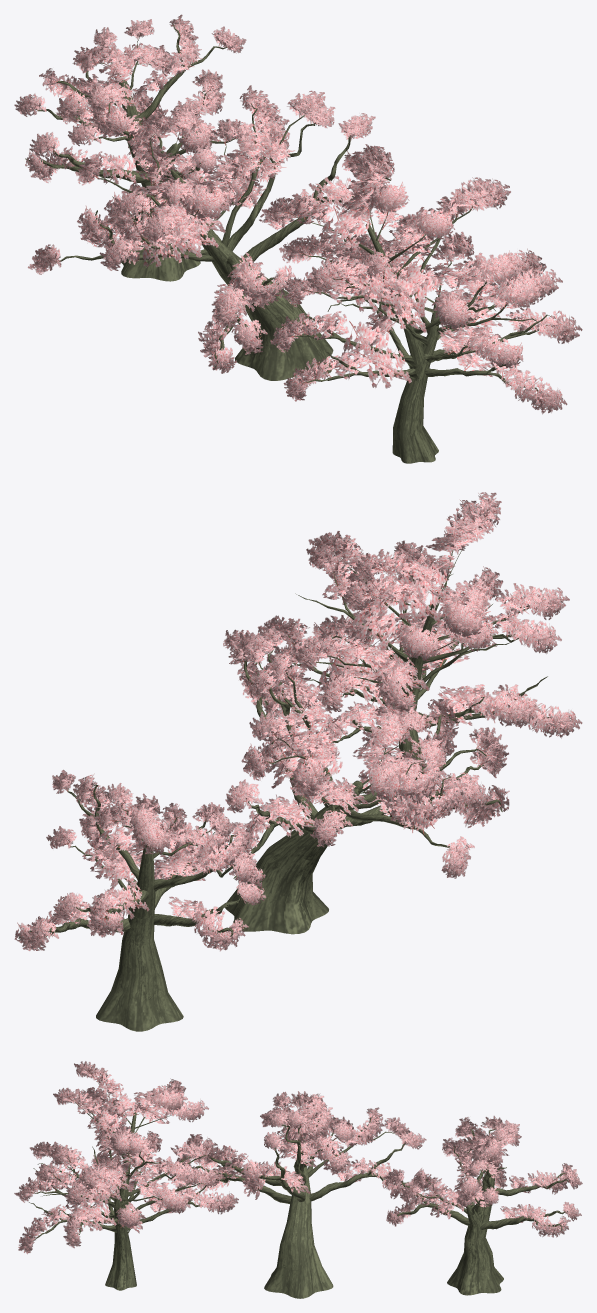
The model's file is Senza Titolo.glb.
3 renders of one model, top to bottom at view 1: azimuth 30°, elevation 25°; view 2: azimuth 150°, elevation 25°; view 3: azimuth 270°, elevation 25°, orthographic. The views are drawn at different scales.
Visible parts, largest first — view 1: Blossomtree00_jabami_mesh; view 2: Blossomtree00_jabami_mesh; view 3: Blossomtree00_jabami_mesh.
Part boxes in pixels (x1,y1,x2,y2): Blossomtree00_jabami_mesh: [14, 14, 582, 463]; Blossomtree00_jabami_mesh: [14, 492, 582, 1031]; Blossomtree00_jabami_mesh: [14, 1061, 582, 1298].
Bounding box in the file's own units: 14.87 × 11.99 × 29.95.
Materials: 2 (2 with a texture image).
